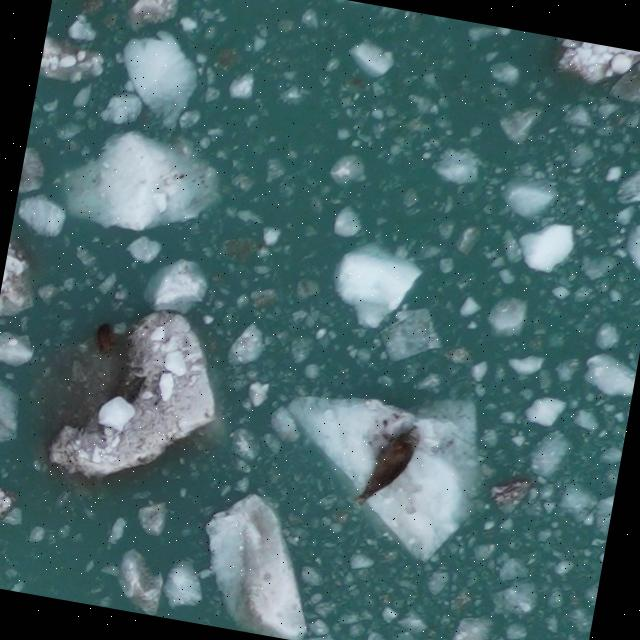seal: (349, 414, 423, 517)
